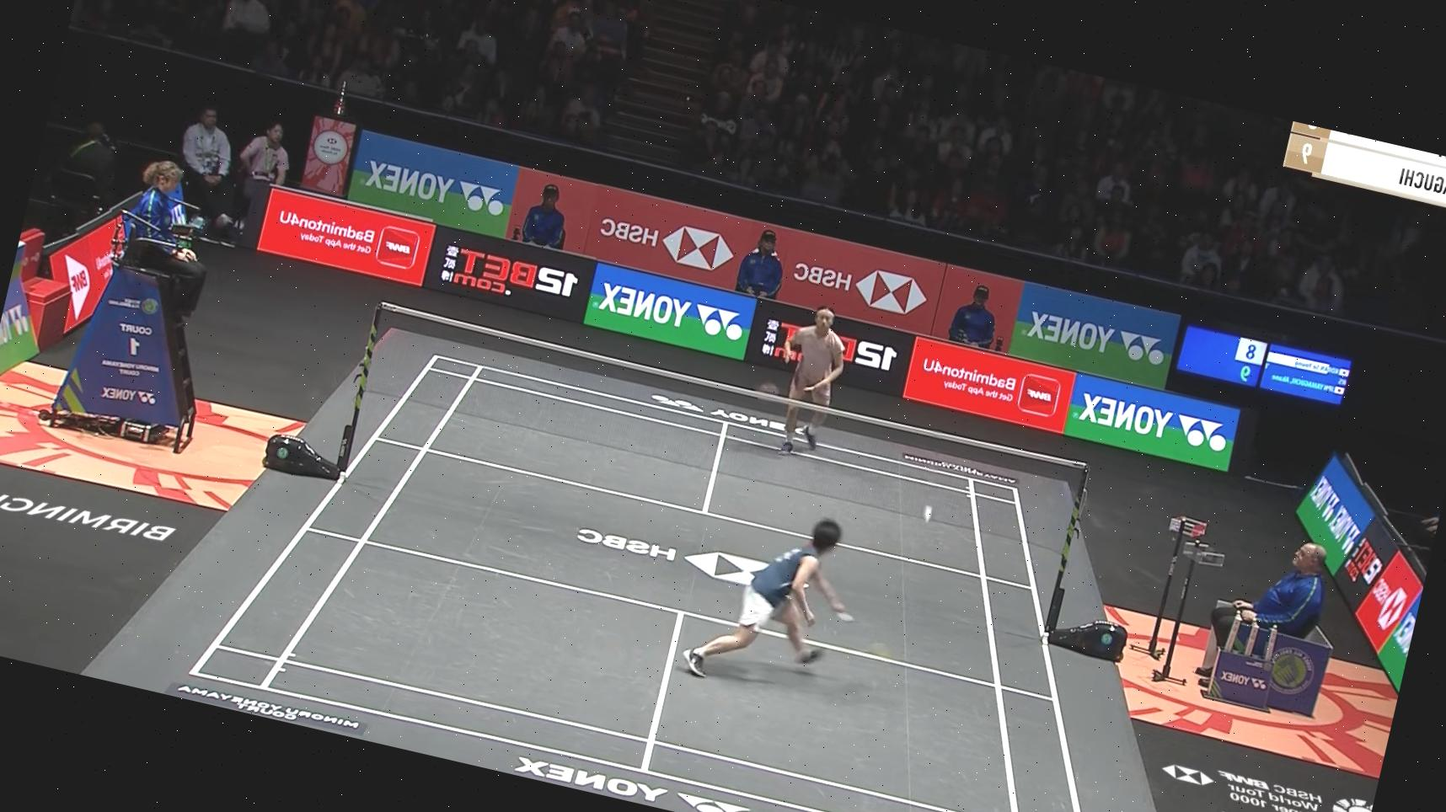Player 1: (752, 283, 871, 473)
Player 2: (659, 478, 869, 715)
shuttle: (920, 499, 941, 527)
